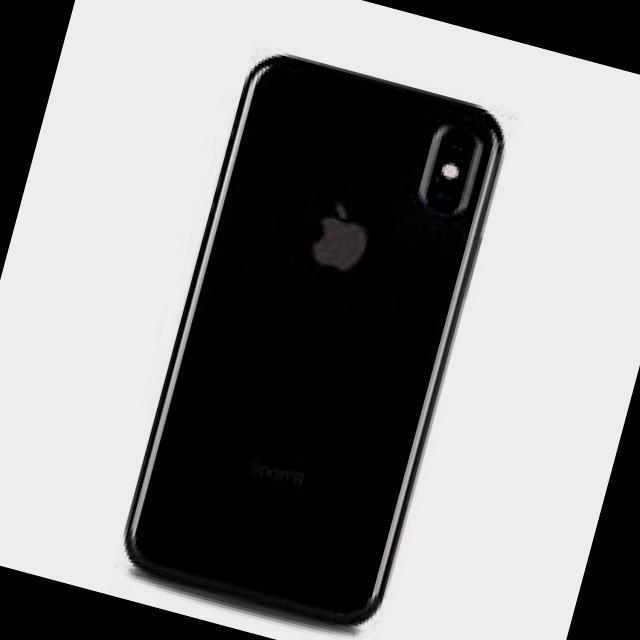lens: (419, 113, 476, 222)
phone: (124, 54, 508, 628)
